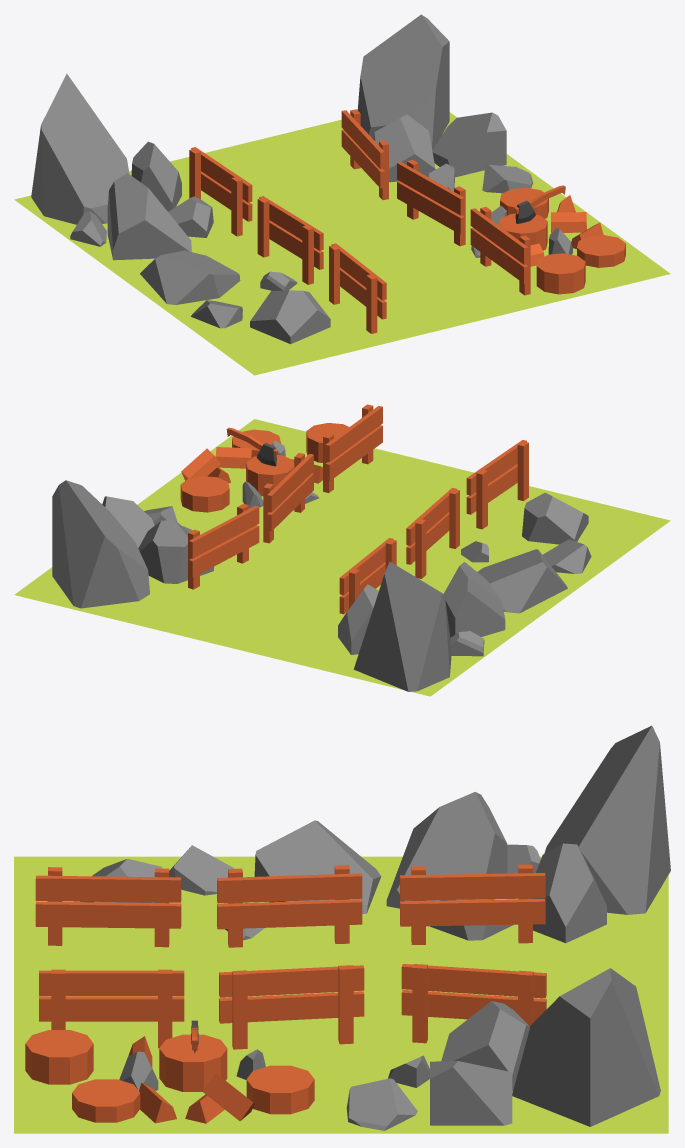
Rendered from basicModel.glb.
The picture shows the model from 3 angles, top to bottom: view 1: azimuth 30°, elevation 25°; view 2: azimuth 150°, elevation 25°; view 3: azimuth 270°, elevation 25°; orthographic projection. The views are drawn at different scales.
Visible parts, largest first — view 1: Plane, Cube.021, Cube.020, Cube.022, Cube.027, Cube.024, Cube.046, Cube.003, Cube.026, Cube.002, Cube, Cube.004 (+13 smaller); view 2: Plane, Cube.020, Cube.021, Cube.027, Cube.001, Cube.022, Cube.004, Cube, Cube.003, Cube.032, Cube.026, Cube.046 (+12 smaller); view 3: Plane, Cube.020, Cube.021, Cube.004, Cube.046, Cube.003, Cube.002, Cube, Cube.001, Cube.022, Cube.024, Cube.031 (+16 smaller).
Boxes of the visible parts, x1,y1,x2,y2 form: Plane: [14, 112, 670, 375]; Cube.021: [31, 73, 129, 224]; Cube.020: [357, 14, 449, 149]; Cube.022: [107, 173, 191, 260]; Cube.027: [140, 250, 240, 304]; Cube.024: [432, 112, 506, 177]; Cube.046: [397, 159, 465, 246]; Cube.003: [257, 196, 323, 284]; Cube.026: [250, 290, 330, 344]; Cube.002: [189, 147, 252, 236]; Cube: [470, 207, 530, 295]; Cube.004: [329, 243, 386, 333]; Plane: [14, 419, 670, 696]; Cube.020: [52, 480, 149, 608]; Cube.021: [353, 561, 451, 691]; Cube.027: [477, 549, 567, 613]; Cube.001: [188, 503, 259, 589]; Cube.022: [443, 562, 505, 637]; Cube.004: [466, 440, 528, 529]; Cube: [323, 404, 382, 492]; Cube.003: [406, 487, 459, 578]; Cube.032: [138, 520, 213, 583]; Cube.026: [522, 492, 588, 544]; Cube.046: [263, 453, 313, 543]; Plane: [14, 856, 668, 1133]; Cube.020: [512, 968, 660, 1126]; Cube.021: [544, 725, 670, 914]; Cube.004: [35, 867, 181, 947]; Cube.046: [219, 965, 364, 1049]; Cube.003: [217, 865, 362, 947]; Cube.002: [400, 864, 545, 944]; Cube: [39, 969, 184, 1048]; Cube.001: [401, 964, 546, 1043]; Cube.022: [386, 792, 507, 908]; Cube.024: [430, 1061, 512, 1125]; Cube.031: [533, 843, 606, 943].
Size of the model in its own units: 4 by 1.09 by 4.01.
